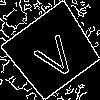V: (26, 26, 80, 83)
